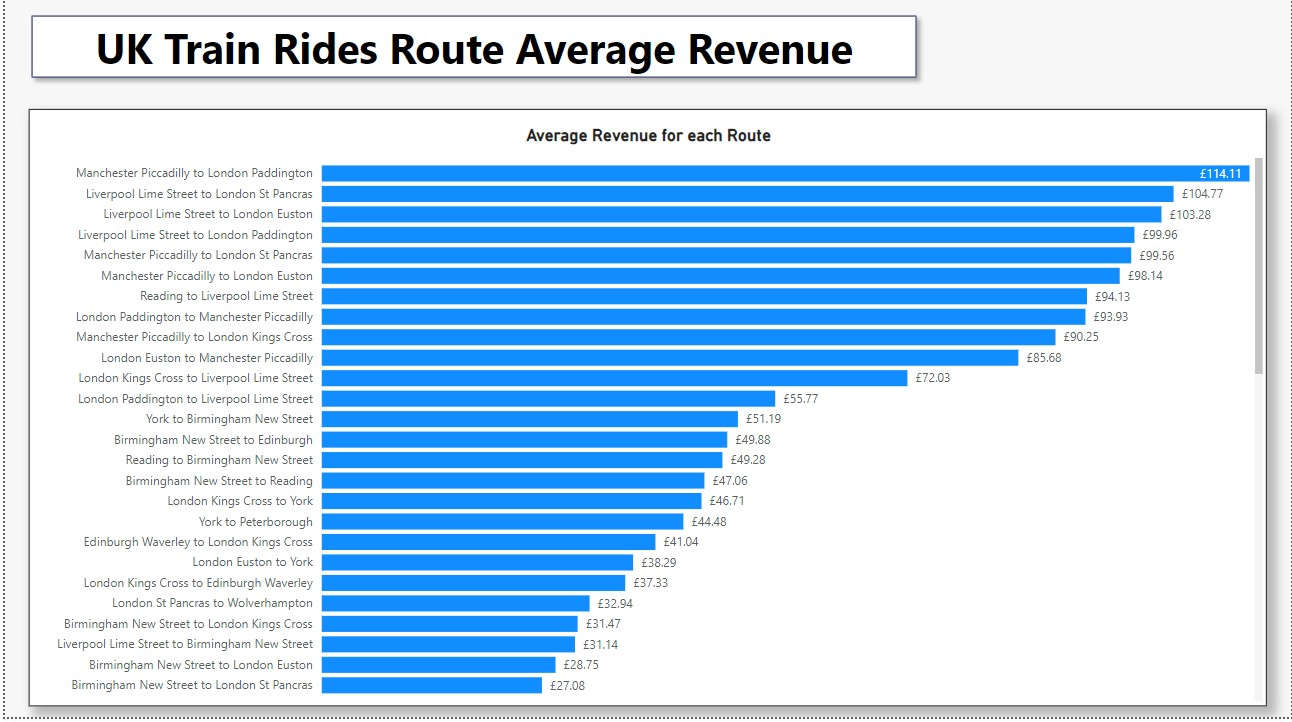

This screenshot's page, from the dashboard's own definition file:
{"tool":"powerbi","page":{"name":"Route Average Revenue","canvas":[1280,720],"ordinal":4},"visuals":[{"type":"clusteredBarChart","title":"Average Revenue for each Route","fields":{"Category":["railway_clean_data.Route"],"Y":["railway_clean_data.Average Rev per Trip"]},"box":[23.3,113.9,1232.3,594.2],"z":0},{"type":"shape","box":[17.5,12.6,898.7,79.8],"z":2000}]}

Visuals, with their boxes in screenshot pixels (x1, y1, x2, y2), scaled from the page's 1280x720 canvas onto the 1292x722 screenshot:
"Average Revenue for each Route" clusteredBarChart: (24, 114, 1267, 710)
shape: (18, 13, 925, 93)
